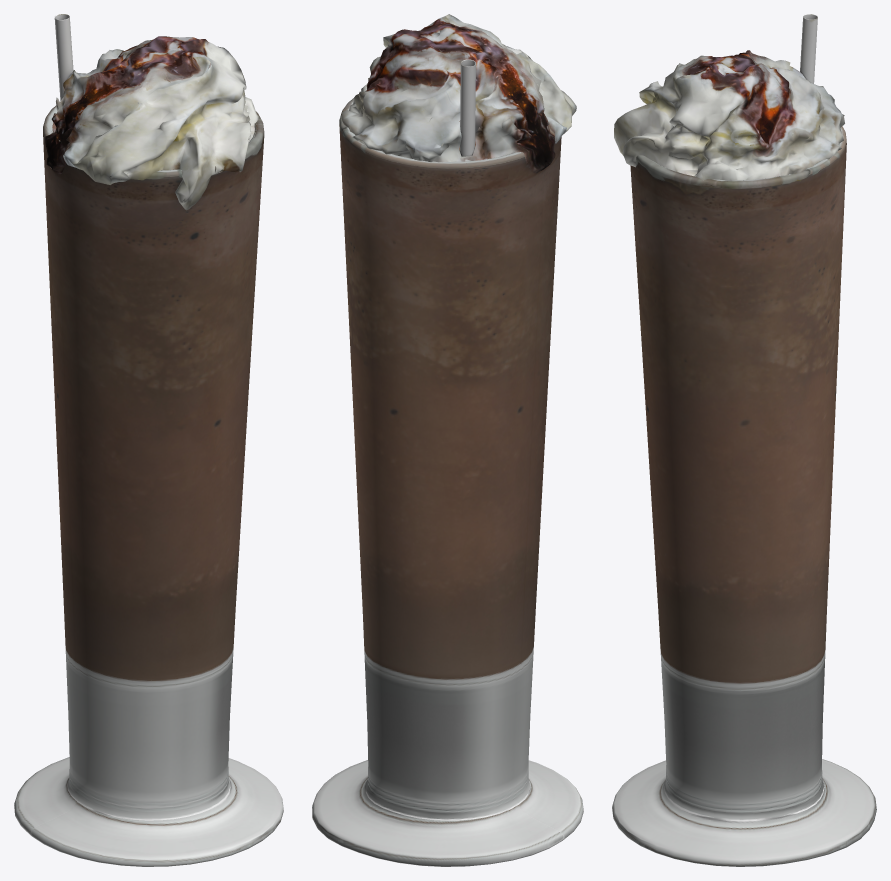
File: table 1.fbx
The picture shows the model from 3 angles, left to right: view 1: azimuth 30°, elevation 25°; view 2: azimuth 150°, elevation 25°; view 3: azimuth 270°, elevation 25°; orthographic projection. The views are drawn at different scales.
Visible parts, largest first — view 1: Object001; view 2: Object001; view 3: Object001.
Part boxes in pixels (x1,y1,x2,y2): Object001: (14, 14, 283, 866); Object001: (312, 14, 583, 866); Object001: (612, 14, 876, 866).
Size of the model in its own units: 30.22 by 96.9 by 30.2.
